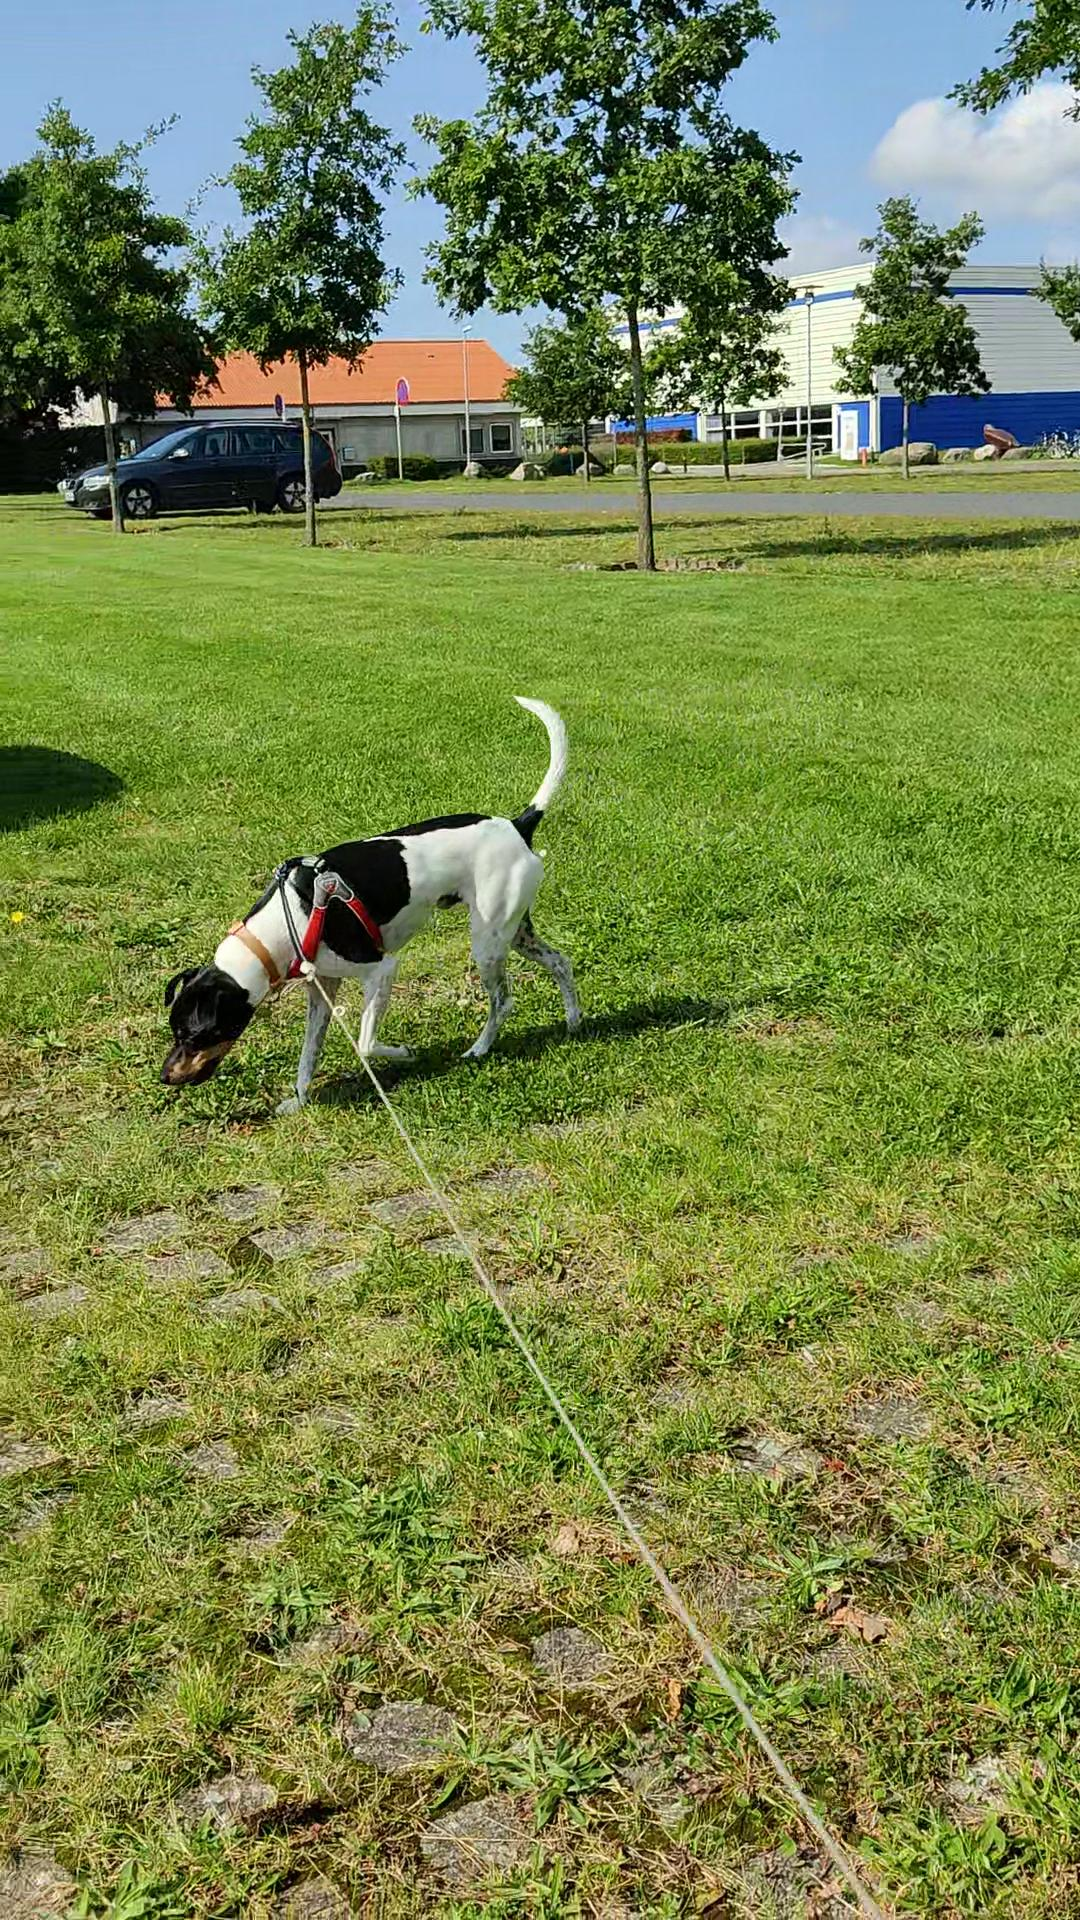Dog: (152, 686, 587, 1106)
